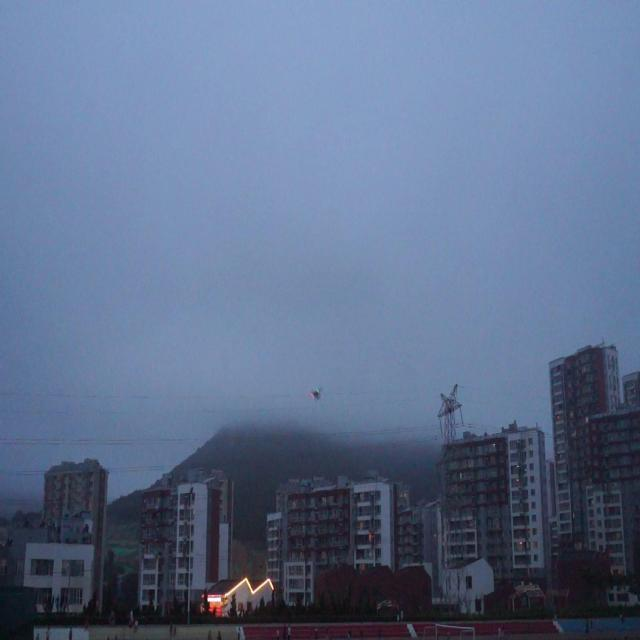drone: (307, 381, 326, 404)
